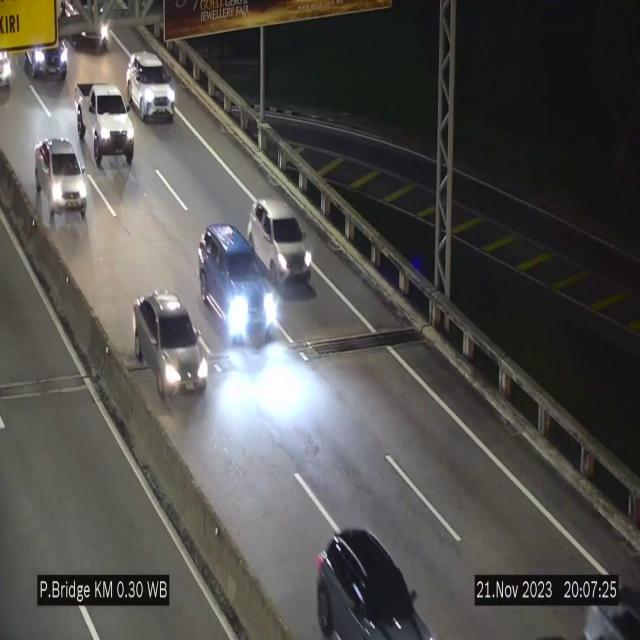Car: (188, 224, 276, 356), (134, 292, 208, 396), (69, 72, 139, 164), (27, 136, 89, 225), (249, 198, 313, 280), (126, 52, 176, 122)
